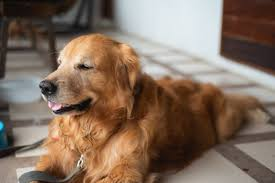Bulldog: (28, 16, 275, 183)
